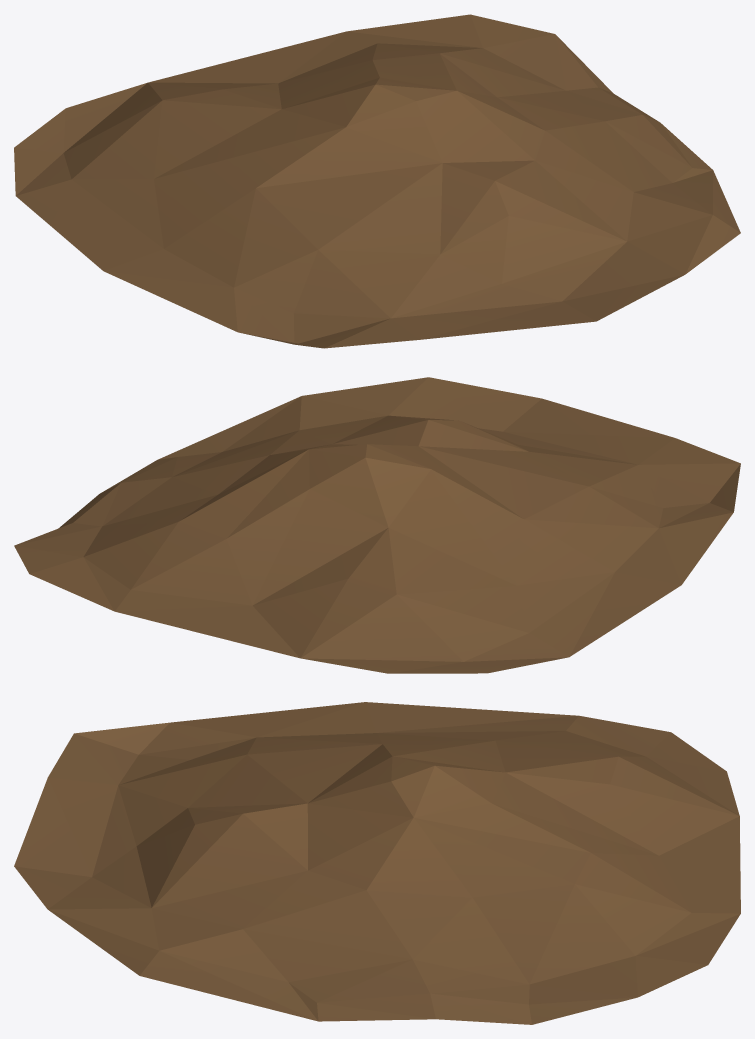
The model's file is Mud_02.glb.
The picture shows the model from 3 angles, top to bottom: view 1: azimuth 30°, elevation 25°; view 2: azimuth 150°, elevation 25°; view 3: azimuth 270°, elevation 25°; orthographic projection. The views are drawn at different scales.
Parts seen in each view (by area): view 1: Mud_02; view 2: Mud_02; view 3: Mud_02.
Part boxes in pixels (x1,y1,x2,y2): Mud_02: [14, 14, 740, 348]; Mud_02: [14, 377, 740, 673]; Mud_02: [14, 702, 740, 1024].
Size of the model in its own units: 2.02 by 0.3699 by 2.09.
1 material, 1 textured.
